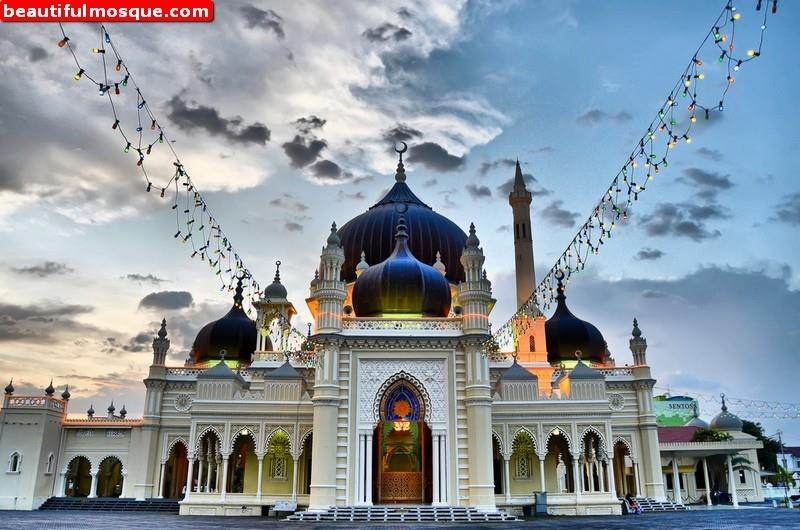Mosque: (103, 138, 643, 502)
